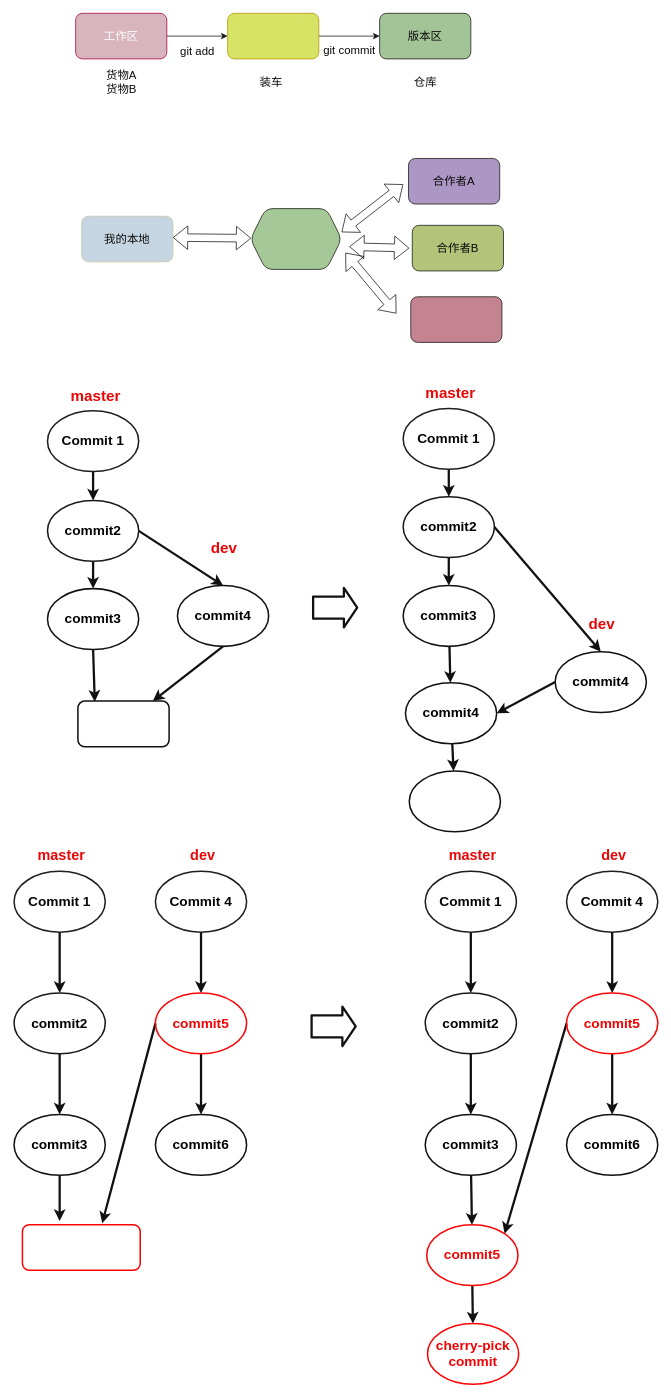
Some shapes in this 671 by 1398 pixel diagram are drawn without their labels. The shapes that lost their labels are listed below. From the top down, each one's centre as x and y in pixels, then its label:
[273,36]: 暂存区
[296,238]: 远端仓库 （GitHub等）
[456,319]: 合作者C
[123,723]: get merge
[454,801]: merge commit
[81,1247]: git cherry-pick
